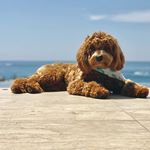puppy: (7, 29, 150, 102)
